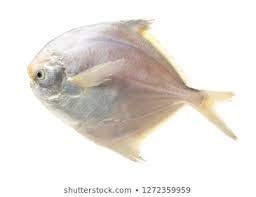Ikan Bawal: (25, 18, 236, 162)
